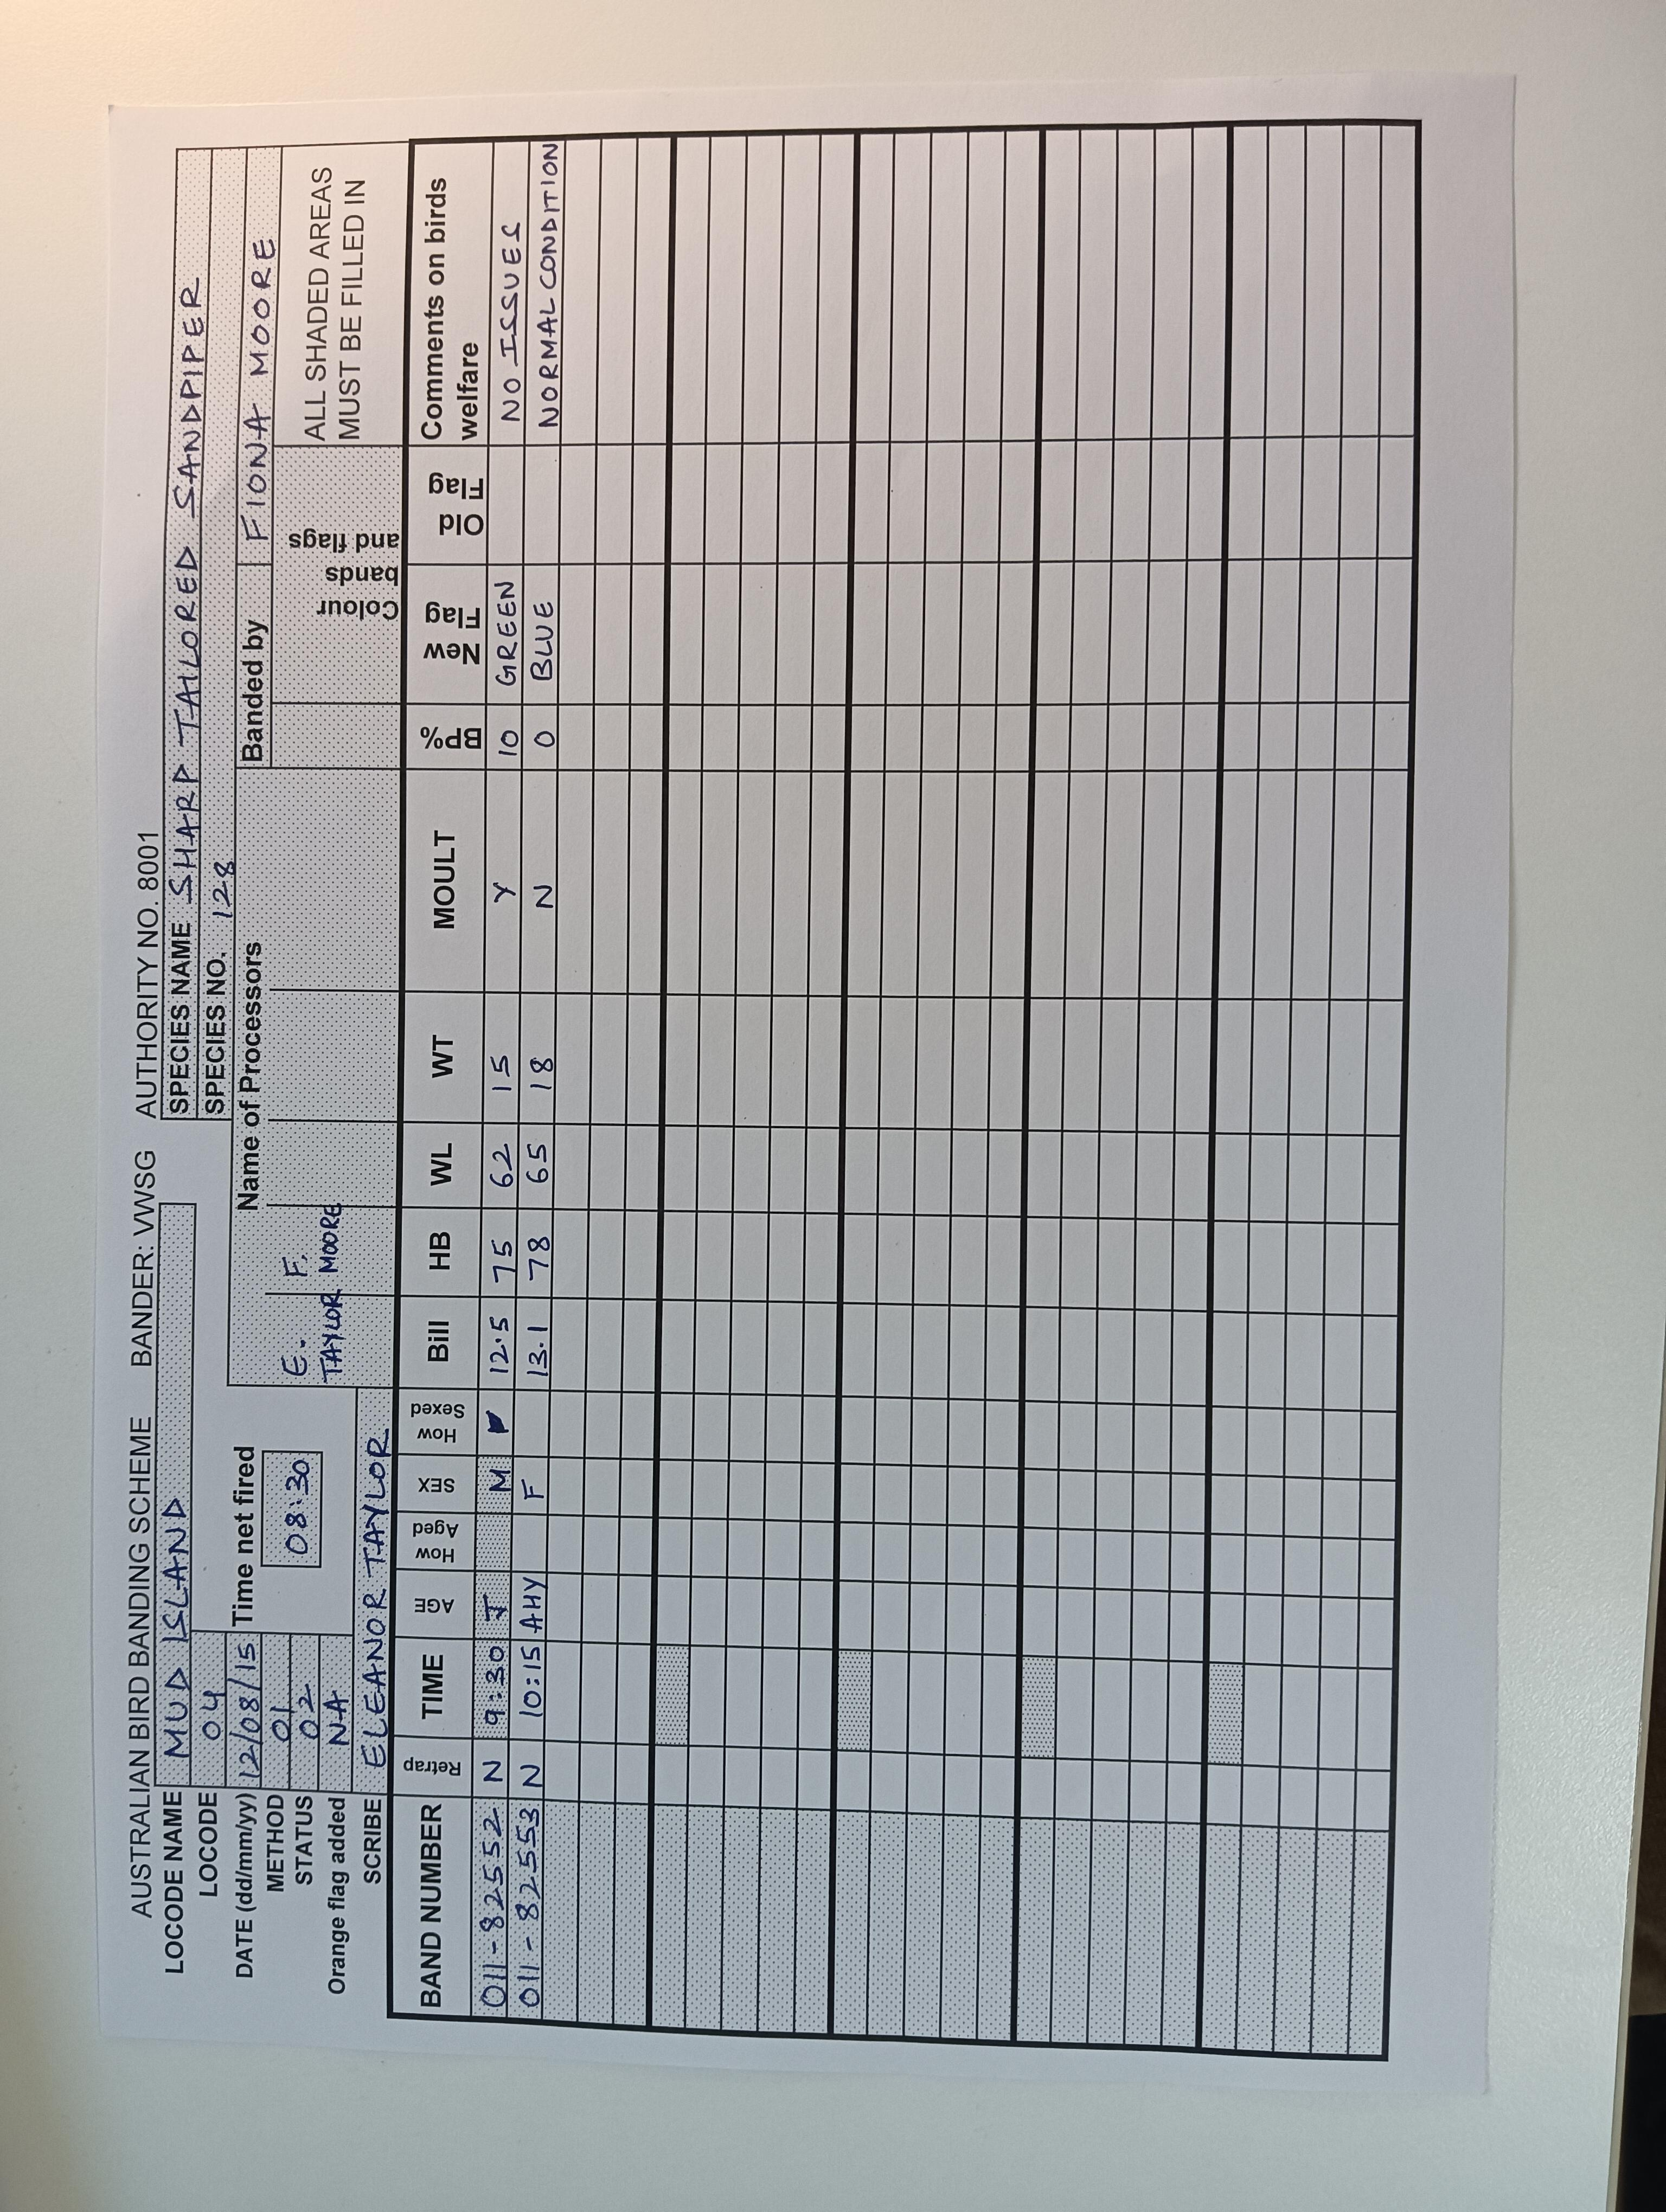BANDED_BY: (238, 143, 283, 769)
DATA: (469, 138, 530, 2018), (507, 135, 567, 2025)
DATE: (224, 1633, 264, 1999)
LOCOCODE: (192, 1628, 227, 1906)
LOCOCODE_NAME: (154, 1201, 196, 1981)
METHOD: (261, 1637, 291, 1916)
NAME_OF_PROCESSORS: (261, 1292, 397, 1385), (259, 1207, 394, 1292)
ORANGE_FLAG_ADDED: (324, 1628, 354, 2006)
SCRIBE: (348, 1381, 399, 1904)
SPECIES_NAME: (161, 147, 208, 1117)
SPECIES_NO: (194, 147, 249, 1117)
STATUS: (291, 1631, 322, 1918)
TIME_NET_FIRED: (222, 1409, 336, 1637)
